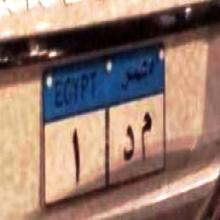1: (66, 124, 92, 182)
daal: (119, 118, 137, 168)
meem: (139, 110, 157, 163)
